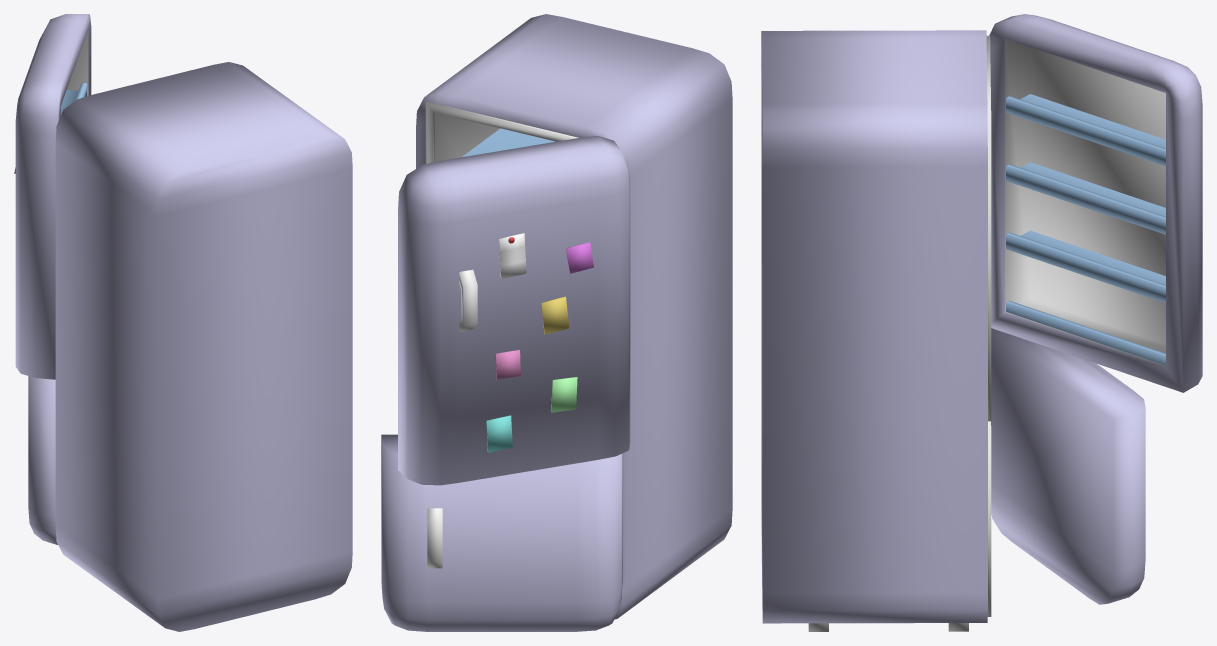
The model's file is холодос.fbx.
The picture shows the model from 3 angles, left to right: view 1: azimuth 30°, elevation 25°; view 2: azimuth 150°, elevation 25°; view 3: azimuth 270°, elevation 25°; orthographic projection. The views are drawn at different scales.
Visible parts, largest first — view 1: Fridge, Fridge.Door.U, Fridge.Door.L; view 2: Fridge, Fridge.Door.U, Fridge.Door.L; view 3: Fridge, Fridge.Door.U, Fridge.Door.L.
Boxes of the visible parts, x1,y1,x2,y2 form: Fridge: (55, 62, 352, 631); Fridge.Door.U: (14, 14, 91, 379); Fridge.Door.L: (28, 376, 57, 544); Fridge: (416, 14, 732, 619); Fridge.Door.U: (398, 135, 630, 485); Fridge.Door.L: (381, 434, 622, 631); Fridge: (761, 30, 991, 631); Fridge.Door.U: (989, 14, 1202, 392); Fridge.Door.L: (991, 328, 1145, 604).
Bounding box in the file's own units: 92.09 × 195 × 147.
